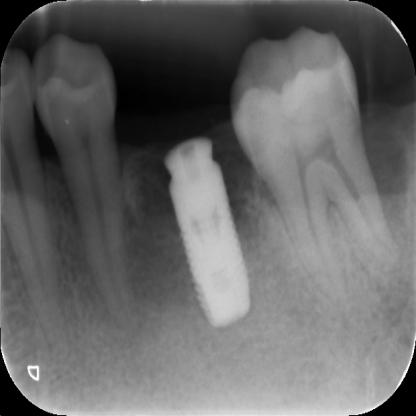ITI: (155, 128, 258, 337)
